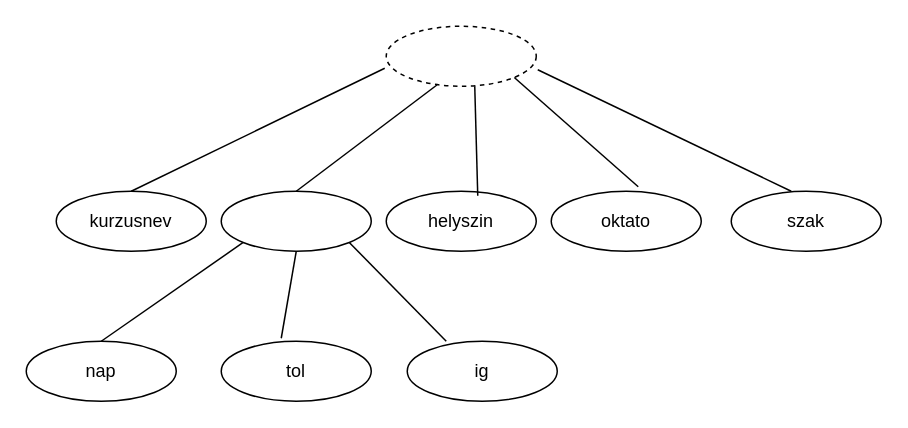
This 908x428 diagram has some shape labels left out. The centre of each missing label's shape, as x and y in pixels:
"idopont" belongs at (295,220).
"óra" belongs at (460,55).
